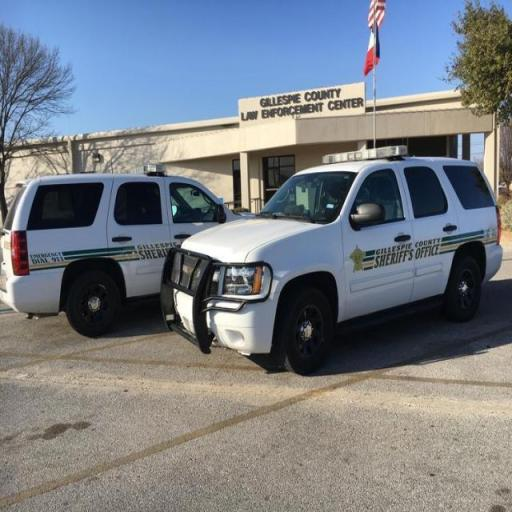Ambulance: (170, 142, 505, 360), (5, 172, 170, 344)
